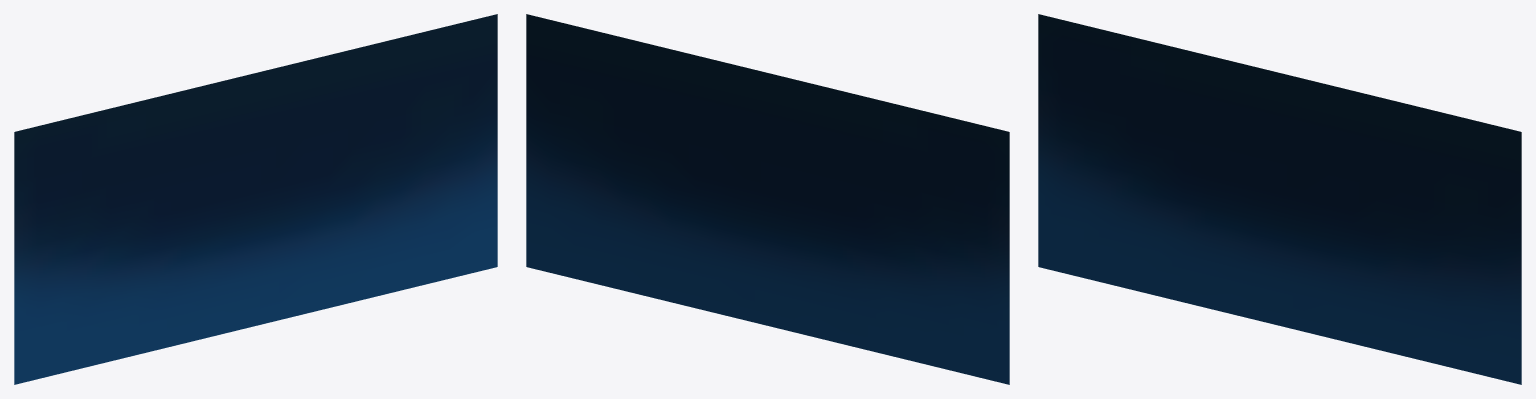
File: pe_phase_02.glb
3 renders of one model, left to right at view 1: azimuth 30°, elevation 25°; view 2: azimuth 150°, elevation 25°; view 3: azimuth 330°, elevation 25°, orthographic.
Visible parts, largest first — view 1: pe_phase_02; view 2: pe_phase_02; view 3: pe_phase_02.
Boxes of the visible parts, box(x1,y1,x2,y2) form: pe_phase_02: box(14, 14, 497, 384); pe_phase_02: box(526, 14, 1009, 384); pe_phase_02: box(1038, 14, 1521, 384).
Size of the model in its own units: 40 by 20 by 0.
